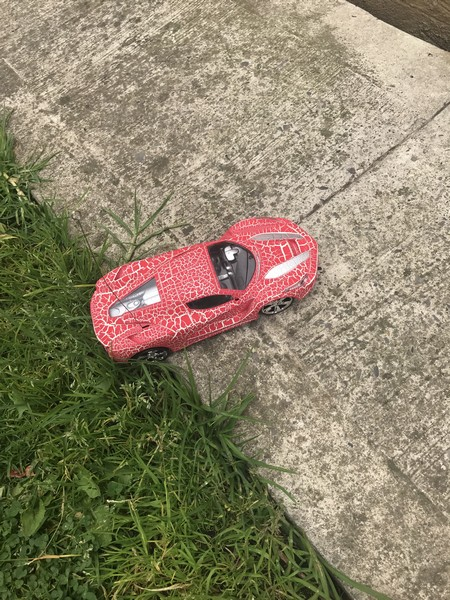RC: (89, 216, 319, 369)
